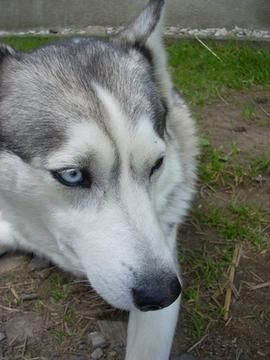husky: (1, 15, 219, 327)
